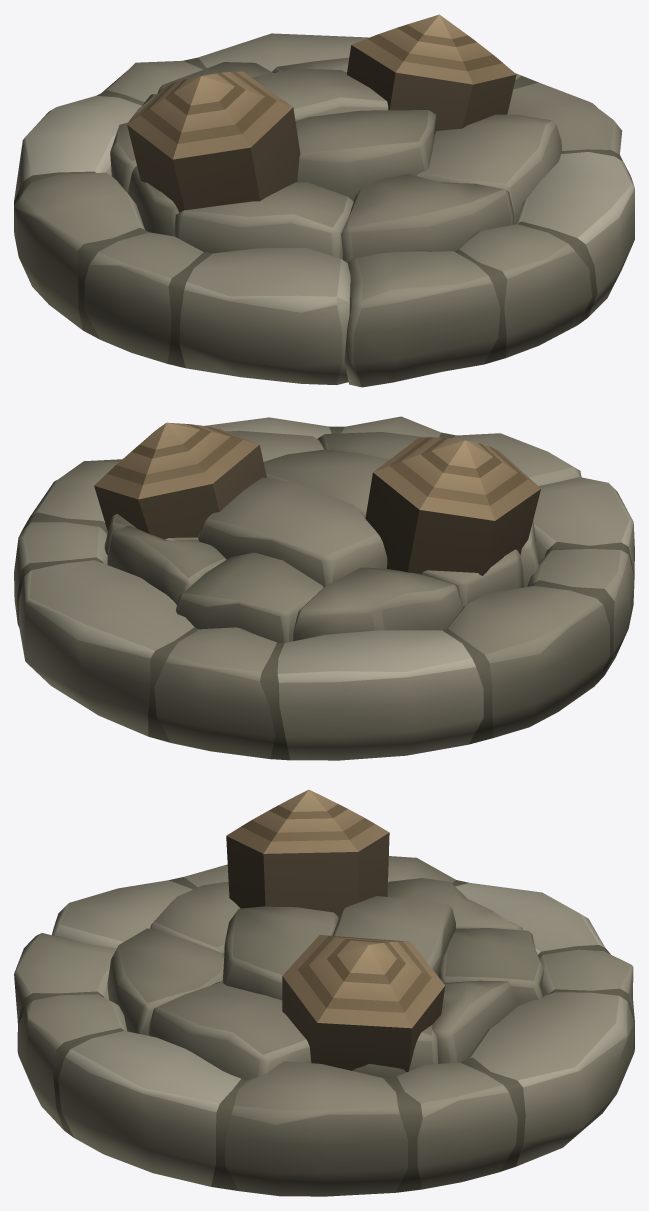
The model's file is orc_stone_roof_high.fbx.
3 renders of one model, top to bottom at view 1: azimuth 30°, elevation 25°; view 2: azimuth 150°, elevation 25°; view 3: azimuth 270°, elevation 25°, orthographic.
Parts seen in each view (by area): view 1: orc_stone_roof_high; view 2: orc_stone_roof_high; view 3: orc_stone_roof_high.
Part boxes in pixels (x1,y1,x2,y2): orc_stone_roof_high: (14, 14, 634, 387); orc_stone_roof_high: (14, 416, 634, 760); orc_stone_roof_high: (14, 789, 634, 1196).
Size of the model in its own units: 569 by 224 by 573.
